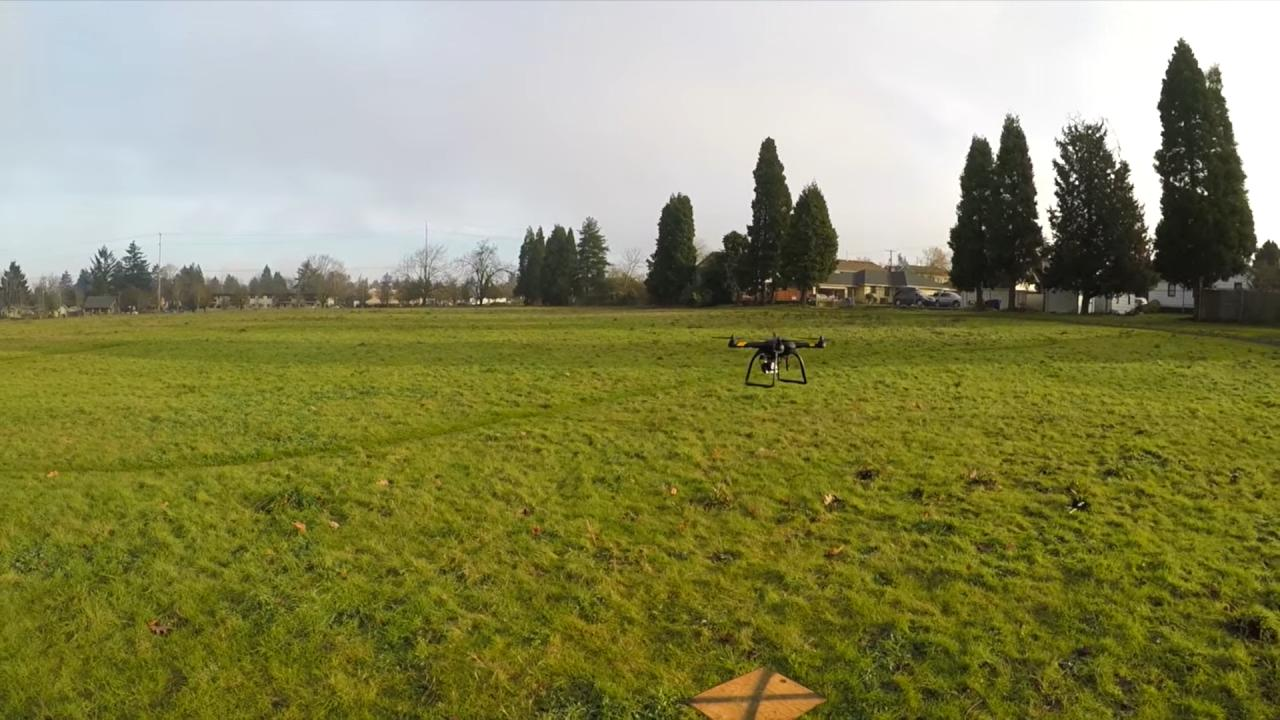Drone: (701, 324, 840, 397)
